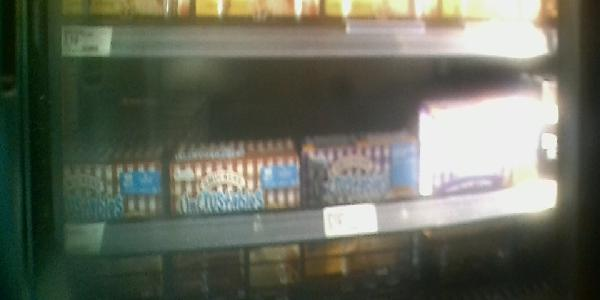icecream: (420, 98, 541, 201), (175, 142, 309, 223), (301, 129, 418, 209), (54, 161, 168, 226)
